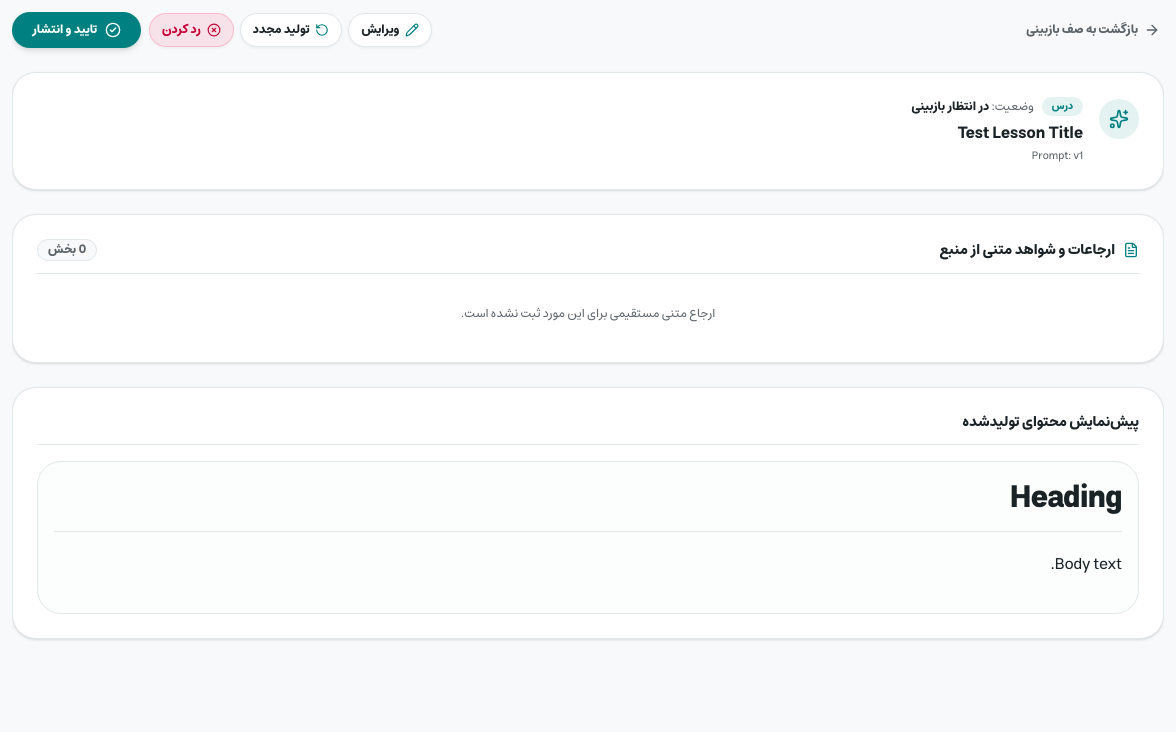
it: ContentReviewDetail › disables Edit, Regenerate, and Reject buttons while accept is pending
Expected: the heading "Test Lesson Title" is shown, [958,119,1083,147]
Click the button "تایید و انتشار" at (77, 30), box [12,12,141,48]
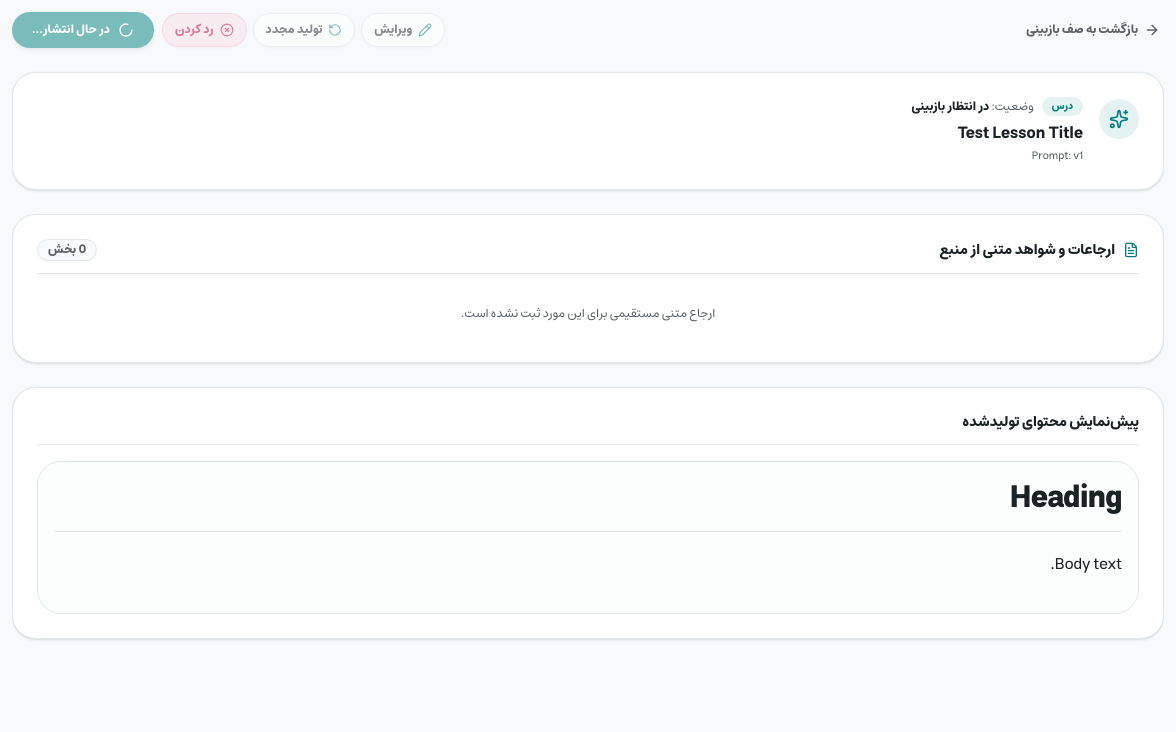
Now the button "ویرایش" is disabled, box [361,13,445,47]
Now the button "رد کردن" is disabled, box [162,13,247,47]
Now the button "تولید مجدد" is disabled, box [252,13,355,47]
